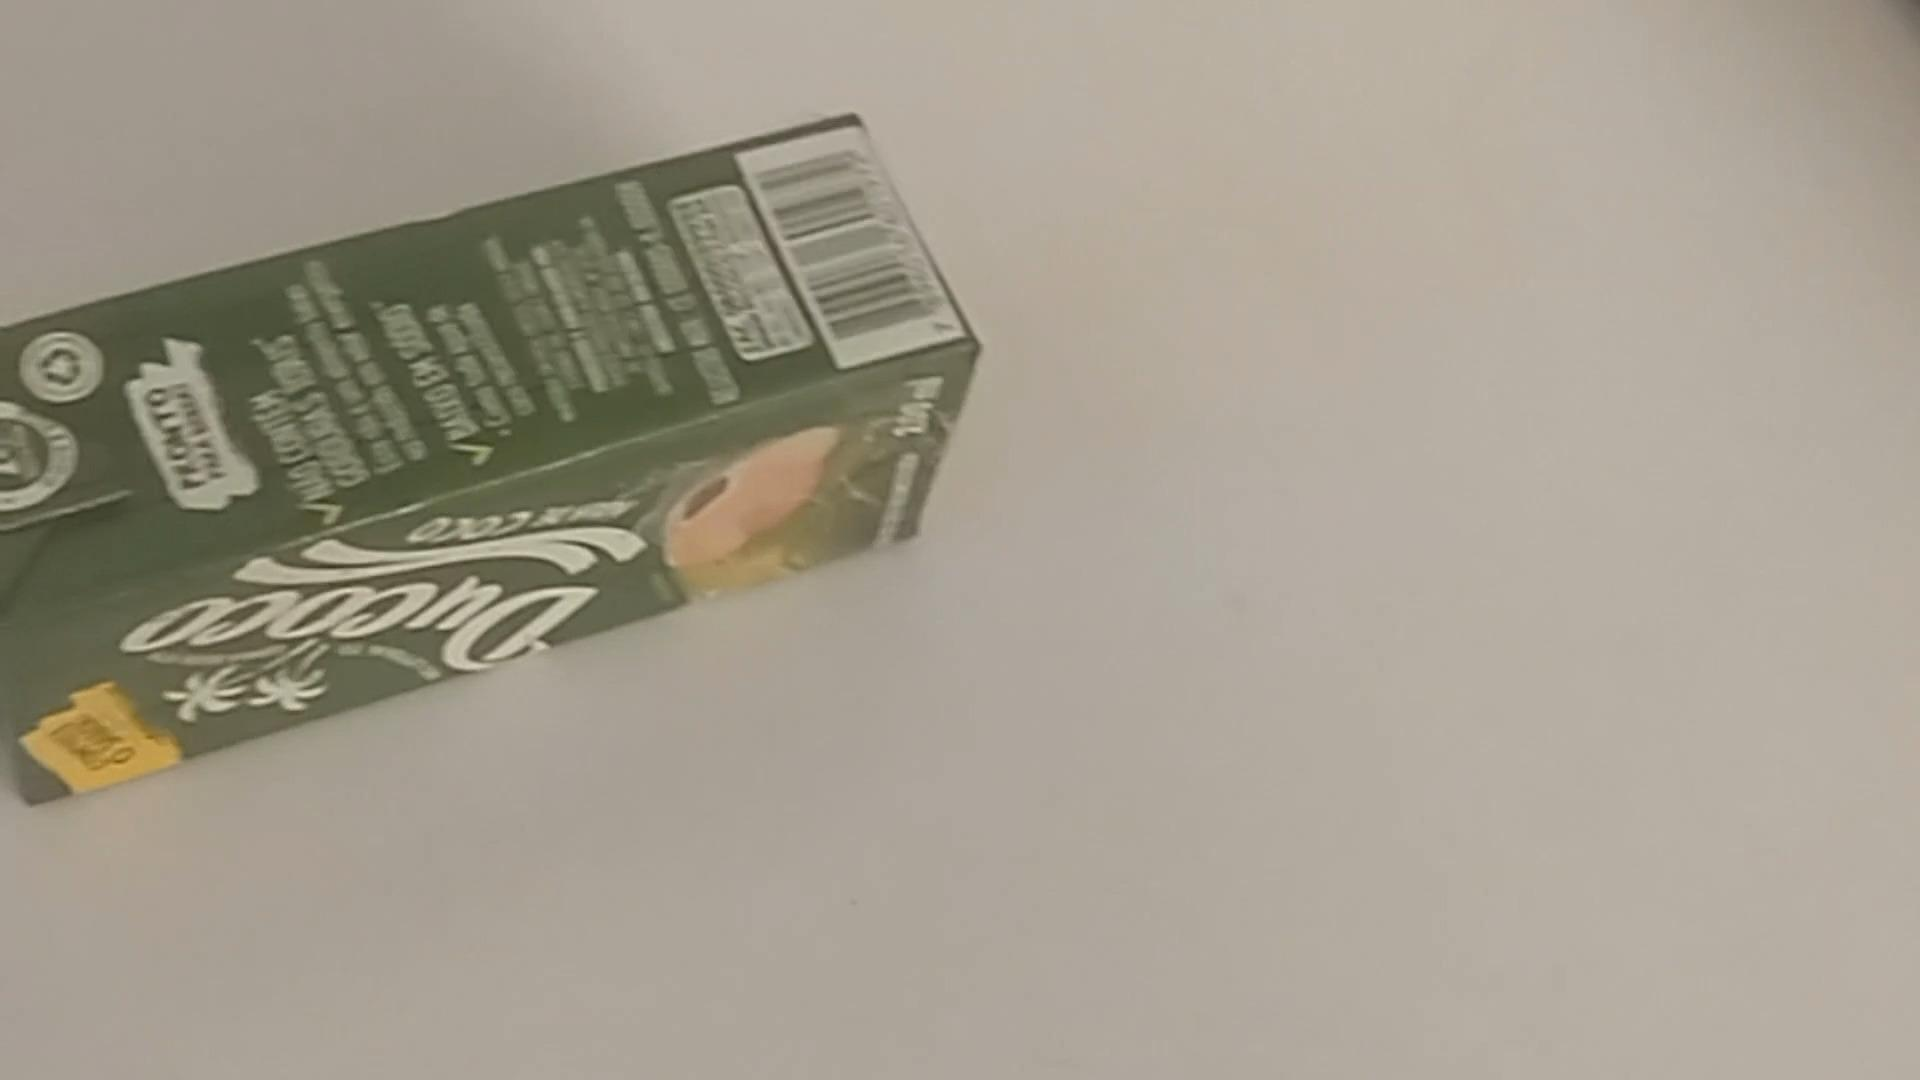coco: (12, 117, 988, 804)
